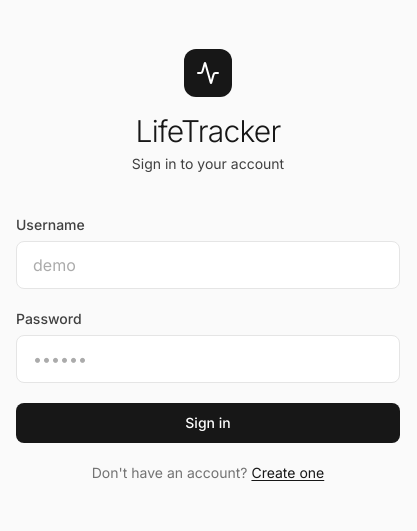
Test case: LoginPage › shows error message when login fails
In the field with placeholder "demo": (208, 265) [16,241,400,289], type "testuser"
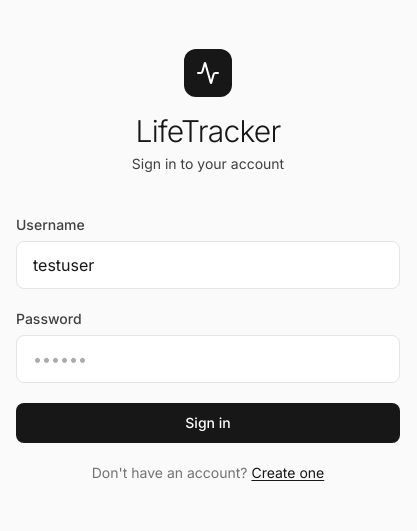
In the password field with placeholder "••••••": (208, 359) [16,335,400,383], type "wrongpass"
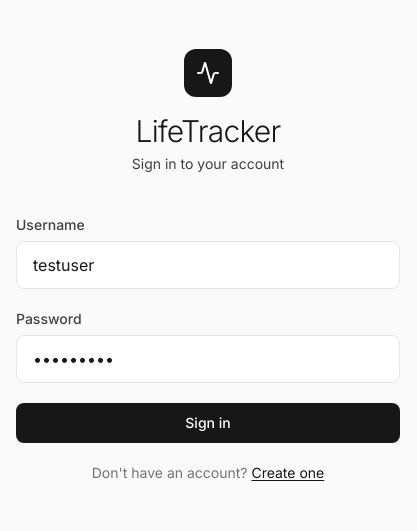
Click the button "Sign in": (208, 423) [16,403,400,443]
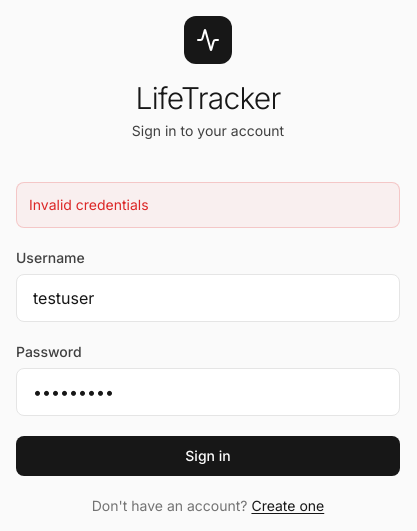
Result: the text "Invalid credentials" is shown at [16,182,400,228]
